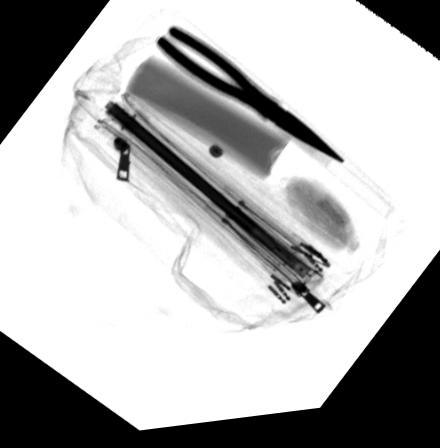Pliers: (152, 28, 347, 174)
